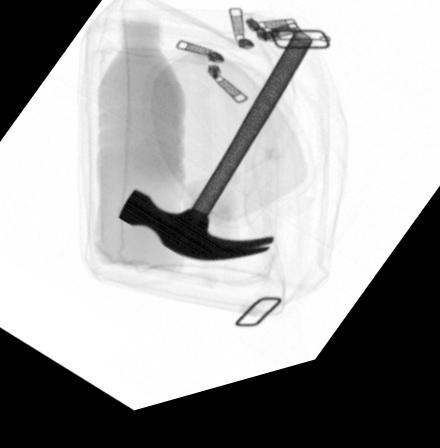Hammer: (115, 43, 314, 273)
